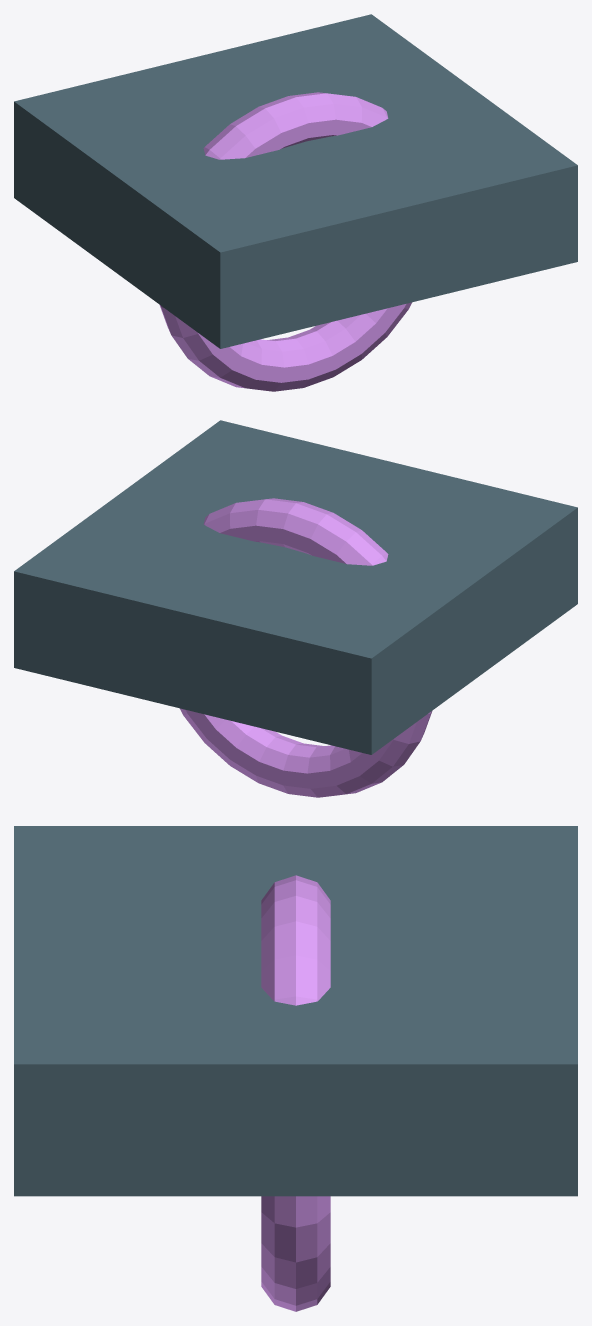
Rendered from smart-thermostat.glb.
3 renders of one model, top to bottom at view 1: azimuth 30°, elevation 25°; view 2: azimuth 150°, elevation 25°; view 3: azimuth 270°, elevation 25°, orthographic. The views are drawn at different scales.
Visible parts, largest first — view 1: world; view 2: world; view 3: world.
Boxes of the visible parts, x1,y1,x2,y2 form: world: (14, 14, 577, 391); world: (14, 420, 577, 797); world: (14, 826, 577, 1311).
Size of the model in its own units: 0.62 by 0.48 by 0.62.
